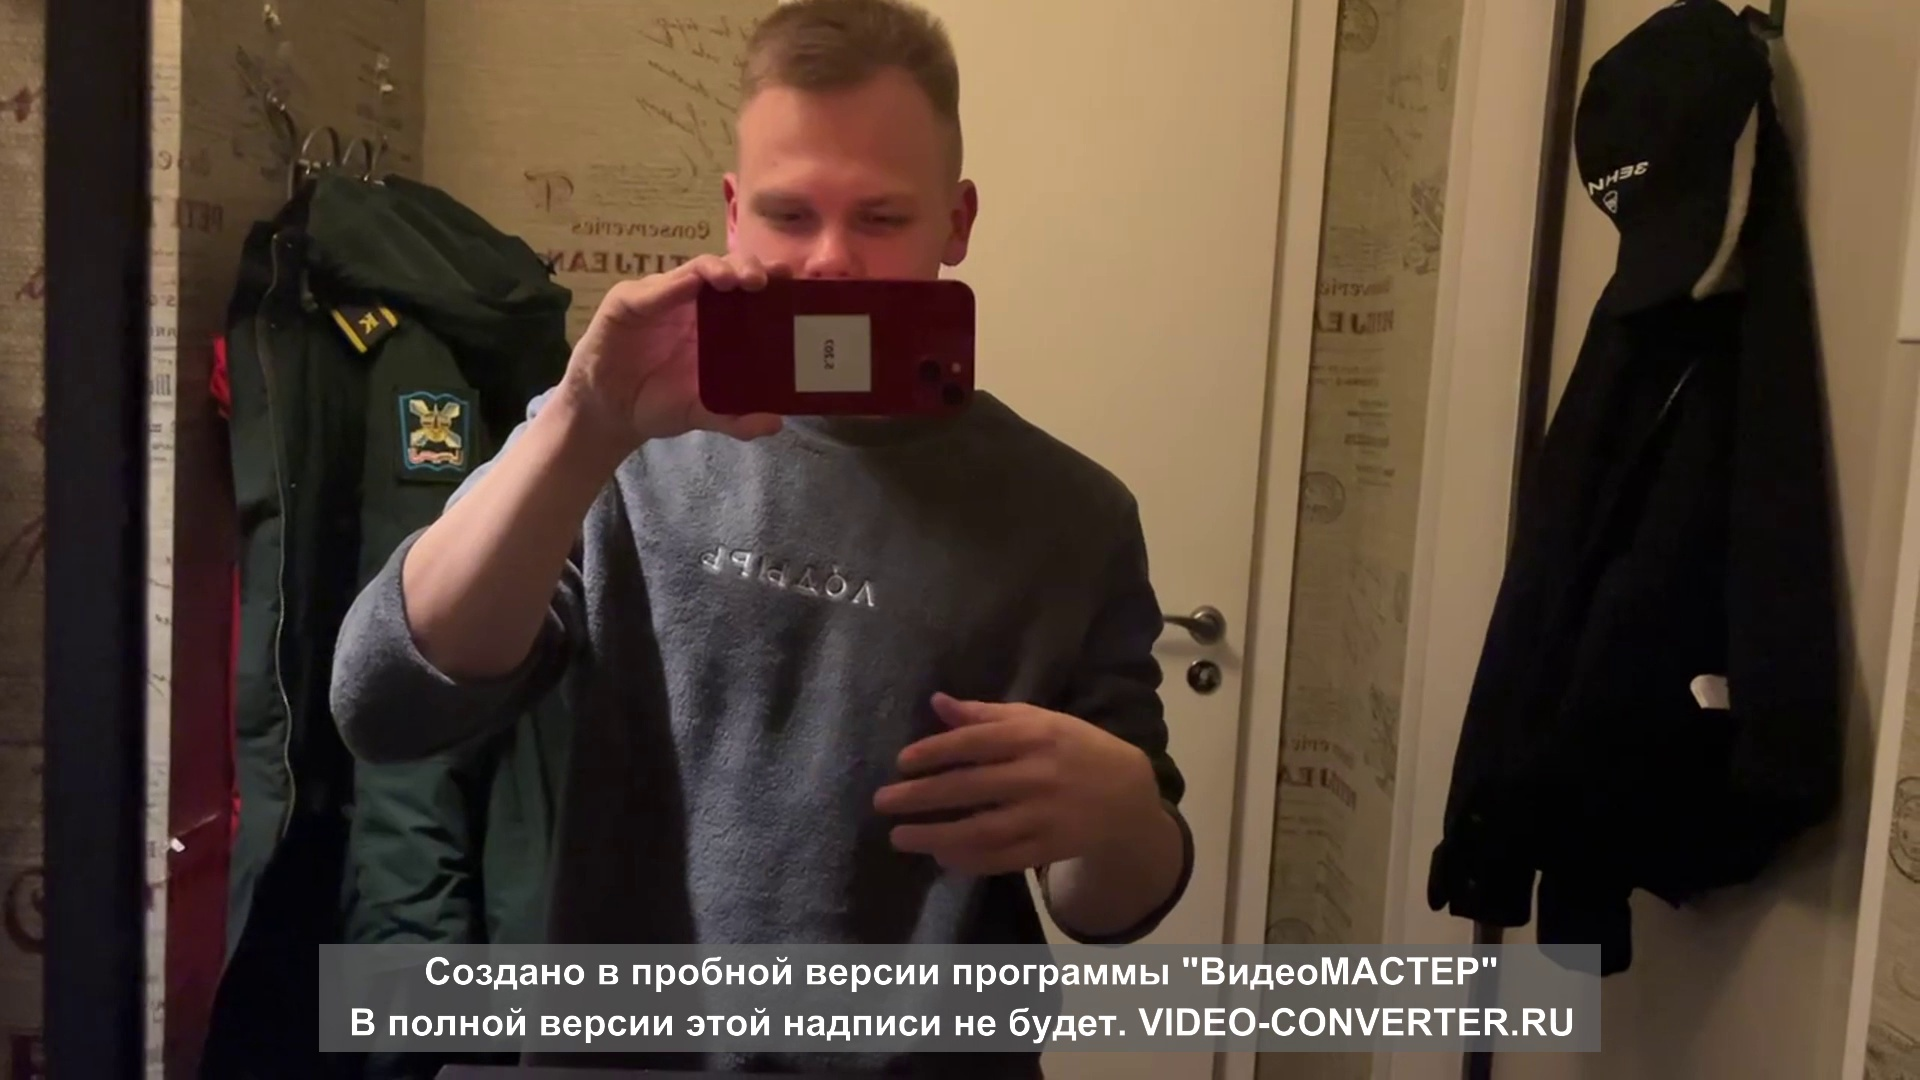Кисть: (874, 687, 1137, 880)
